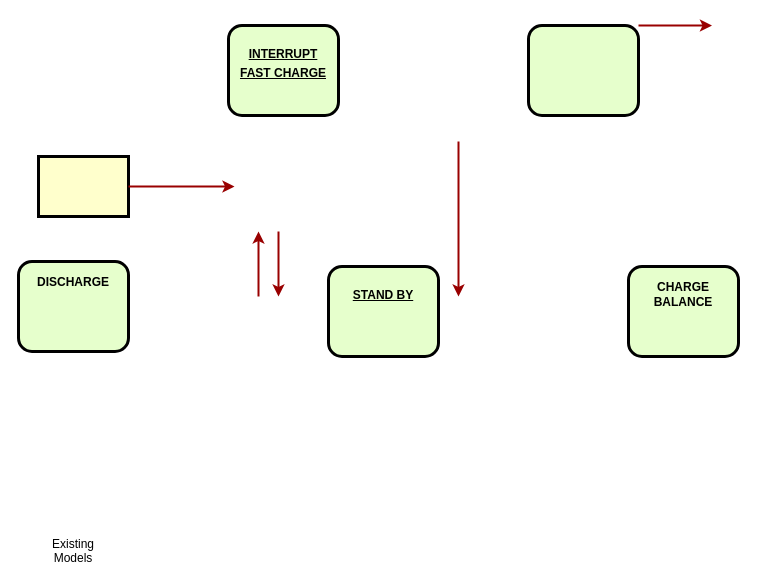
This 757x582 diagram has some shape labels left out. Here are the shapes that lost their labels. From the top down, the centre of each, then its label:
At (x=583, y=70): "FAST CHARGE".
At (x=83, y=186): "Investors".
